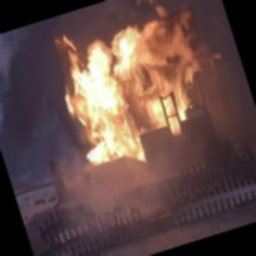fire: (38, 0, 224, 176)
